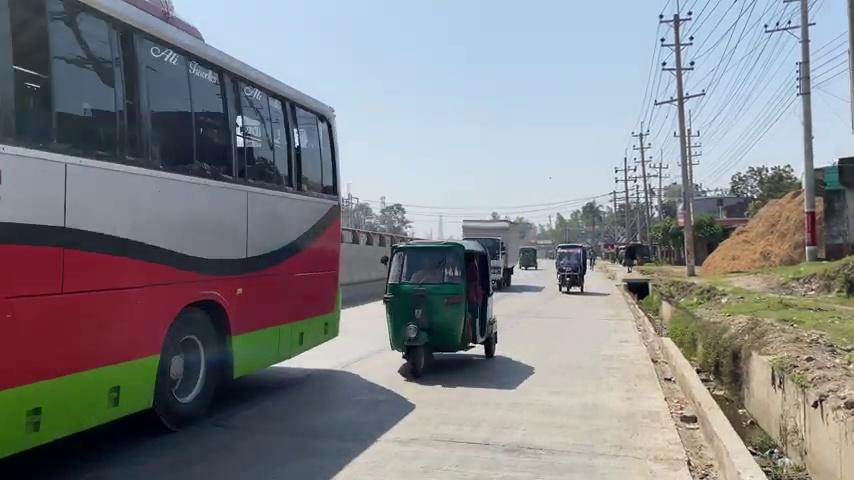Car: (616, 277, 768, 478)
Garbage: (658, 11, 703, 276), (797, 0, 818, 261)
Garbage-bin: (708, 360, 854, 480)
Rickshaw: (0, 0, 342, 459), (379, 238, 498, 376), (547, 239, 604, 296), (517, 240, 541, 283)
